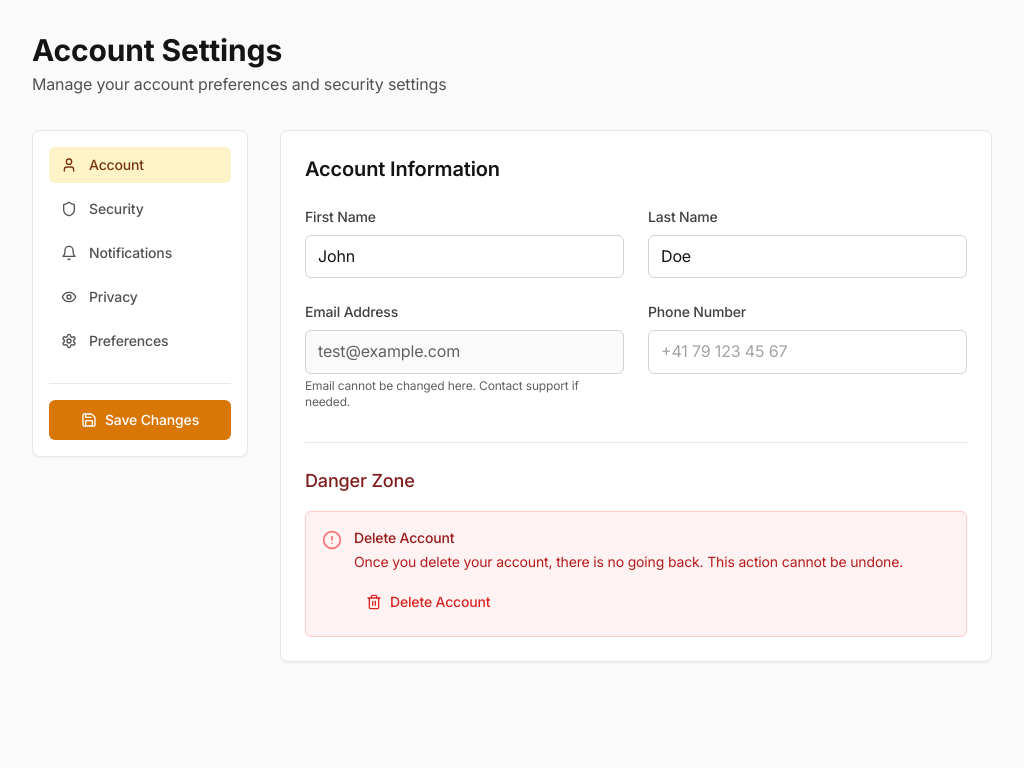
Test: SettingsPage › 🔒 Security Tab › should switch to security tab when clicked
Click the button "Security": [140, 209] box 49,191 -> 231,227
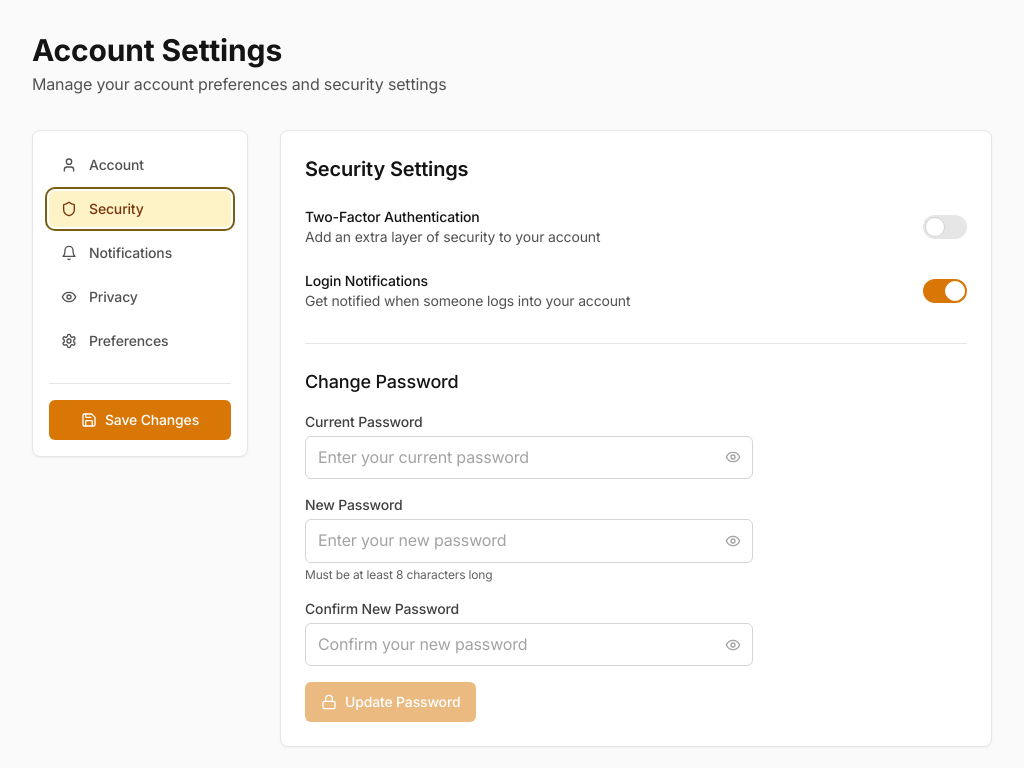
Expected: the heading "Security Settings" is shown, 305,157 -> 468,181
Expected: the heading "Two-Factor Authentication" is shown, 305,208 -> 480,225
Expected: the heading "Change Password" is shown, 305,371 -> 458,392
